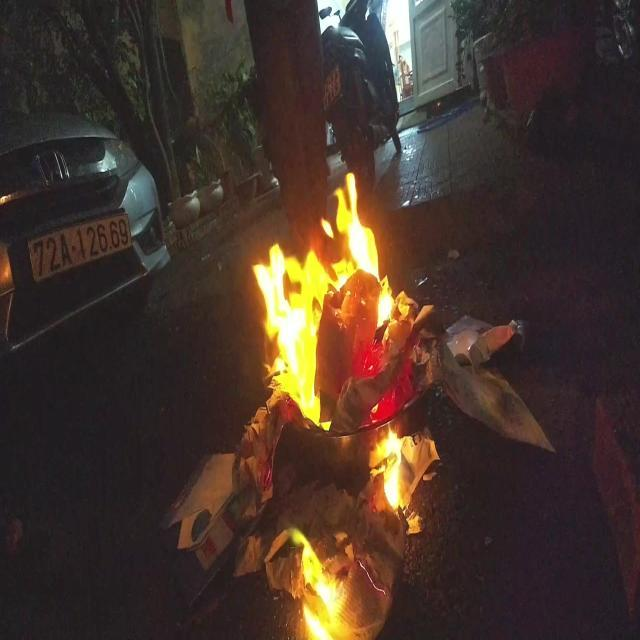Fire: (251, 169, 433, 512), (286, 528, 351, 640)
